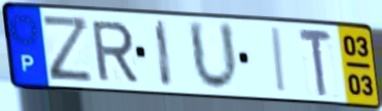I: (153, 18, 176, 91), (271, 25, 289, 96)
R: (88, 19, 141, 83)
T: (296, 26, 335, 99)
U: (185, 18, 242, 94)
Z: (40, 12, 95, 84)
